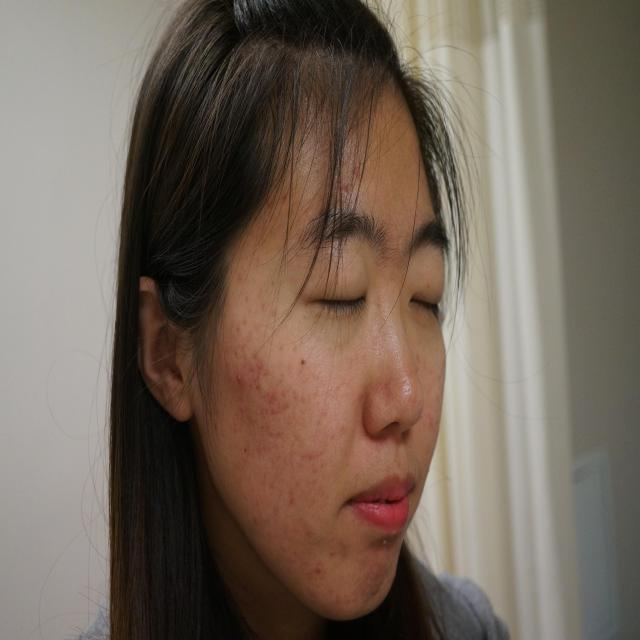acne: (326, 542, 352, 566), (248, 350, 263, 374), (343, 179, 358, 202), (251, 373, 266, 395), (268, 381, 280, 407), (229, 364, 242, 387), (312, 562, 326, 580), (304, 523, 316, 541), (279, 400, 289, 413)
